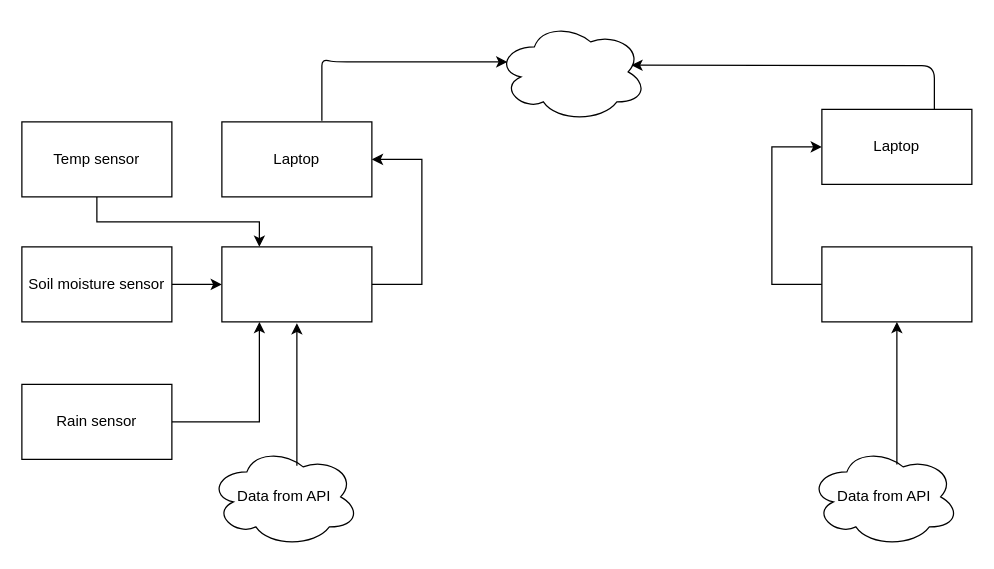
Image size: 994x569. Some labels were removed from this diagram. The centre of each missing label's shape, as x and y in pixels:
Pi Gateway: (896,284)
TTGO LORA32: (296,284)
TTN: (571,71)
